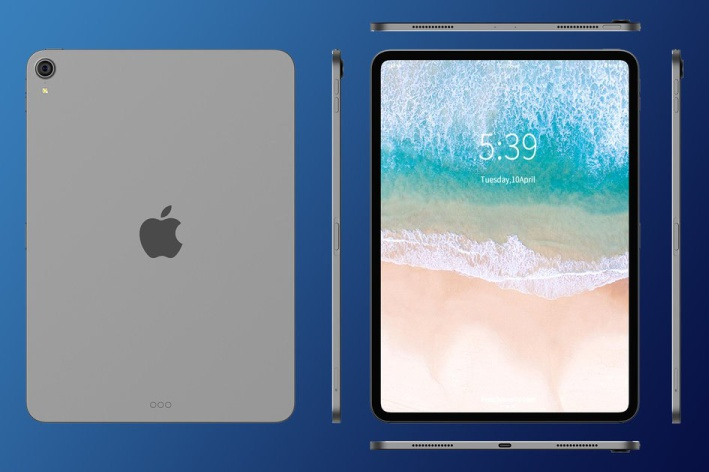apple: (122, 193, 198, 276)
